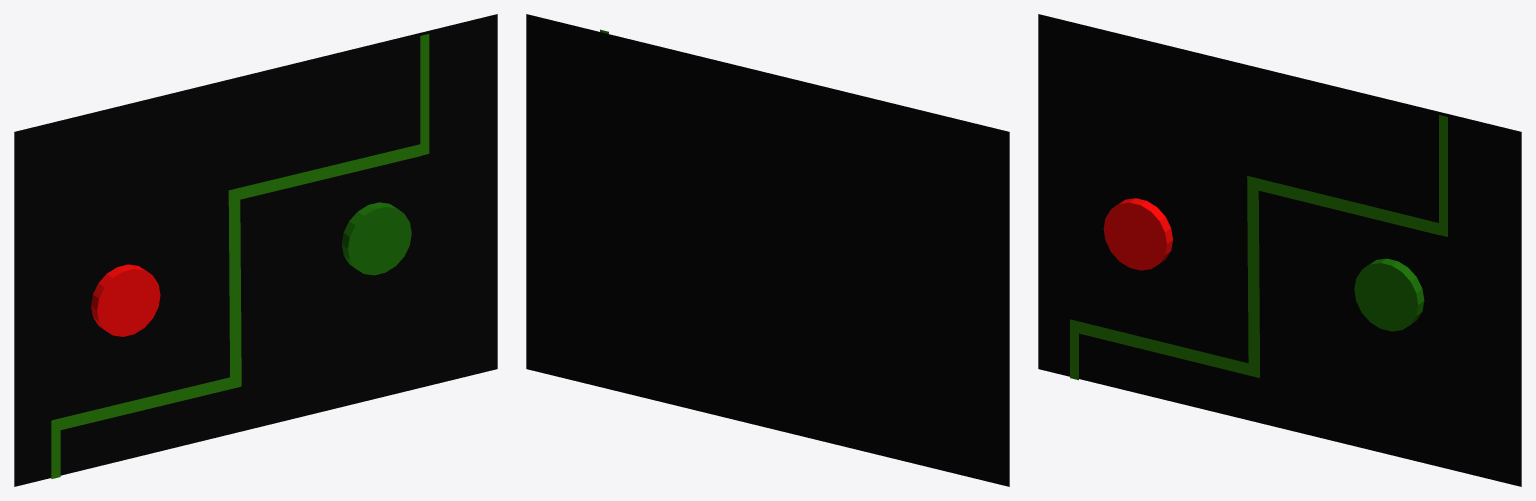
File: controls 2.FBX
3 views of the same model, side by side, from view 1: azimuth 30°, elevation 25°; view 2: azimuth 150°, elevation 25°; view 3: azimuth 330°, elevation 25° (orthographic).
Visible parts, largest first — view 1: Plane020, Cylinder004, Cylinder003, Plane016, Plane022, Plane021, Plane023, Plane013; view 2: Plane020; view 3: Plane020, Cylinder004, Cylinder003, Plane022, Plane016, Plane021, Plane023, Plane013.
Part boxes in pixels (bbox=[...]): Plane020: bbox=[14, 14, 497, 486]; Cylinder004: bbox=[335, 195, 411, 277]; Cylinder003: bbox=[84, 257, 160, 338]; Plane016: bbox=[52, 374, 241, 429]; Plane022: bbox=[240, 144, 421, 199]; Plane021: bbox=[228, 187, 241, 384]; Plane023: bbox=[420, 34, 429, 155]; Plane013: bbox=[51, 418, 60, 478]; Plane020: bbox=[526, 14, 1009, 486]; Plane020: bbox=[1038, 14, 1521, 486]; Cylinder004: bbox=[1354, 251, 1430, 333]; Cylinder003: bbox=[1103, 191, 1179, 272]; Plane022: bbox=[1258, 178, 1439, 235]; Plane016: bbox=[1070, 319, 1259, 377]; Plane021: bbox=[1247, 176, 1259, 365]; Plane023: bbox=[1439, 115, 1447, 236]; Plane013: bbox=[1070, 319, 1078, 380].
Bounding box in the file's own units: 4.7 × 3.3 × 0.1485.
